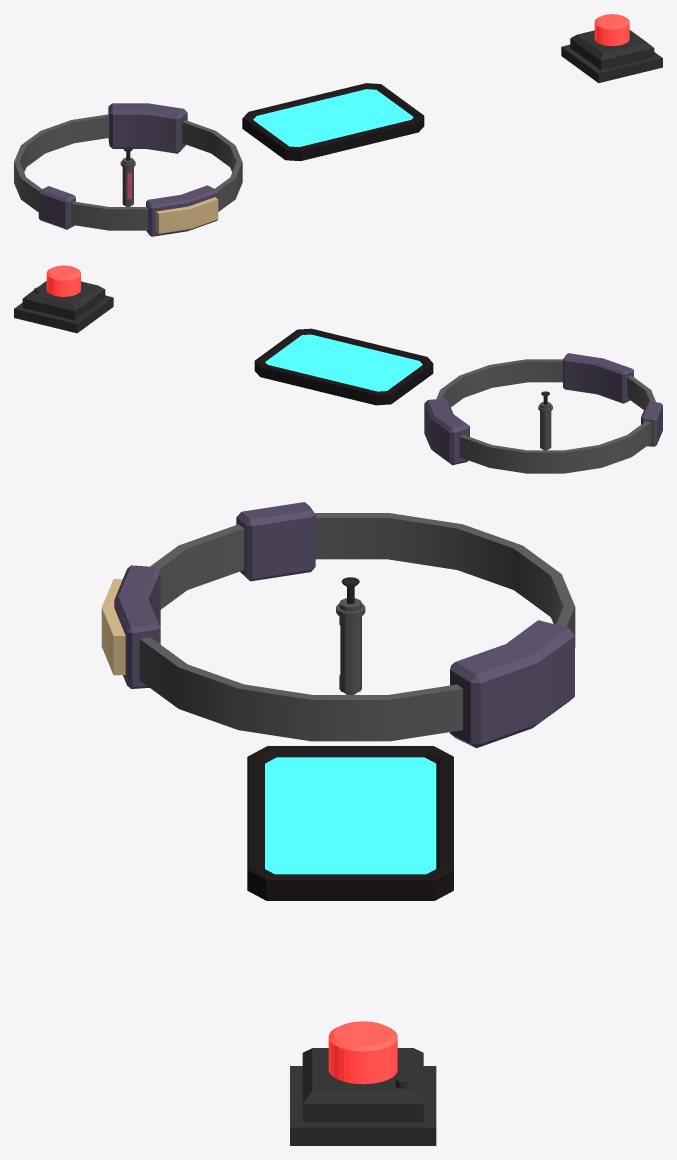
Rendered from sci_fie_item.fbx.
The picture shows the model from 3 angles, top to bottom: view 1: azimuth 30°, elevation 25°; view 2: azimuth 150°, elevation 25°; view 3: azimuth 270°, elevation 25°; orthographic projection. The views are drawn at different scales.
Parts seen in each view (by area): view 1: BELT, I_pad, BUTTON, BUTTON_SUPPORT, syringe; view 2: BELT, I_pad, BUTTON, BUTTON_SUPPORT, syringe; view 3: BELT, I_pad, BUTTON, BUTTON_SUPPORT, syringe.
Part boxes in pixels (x1,y1,x2,y2): BELT: (14, 103, 242, 236); I_pad: (242, 83, 424, 161); BUTTON: (561, 30, 662, 83); BUTTON_SUPPORT: (594, 14, 629, 45); syringe: (120, 147, 135, 206); BELT: (424, 353, 662, 473); I_pad: (254, 328, 433, 405); BUTTON: (14, 281, 113, 333); BUTTON_SUPPORT: (46, 265, 80, 296); syringe: (538, 391, 552, 450); BELT: (101, 502, 575, 748); I_pad: (247, 746, 453, 900); BUTTON: (290, 1048, 436, 1145); BUTTON_SUPPORT: (328, 1021, 397, 1084); syringe: (336, 577, 365, 694).
Size of the model in its own units: 122 by 14.63 by 41.03.
